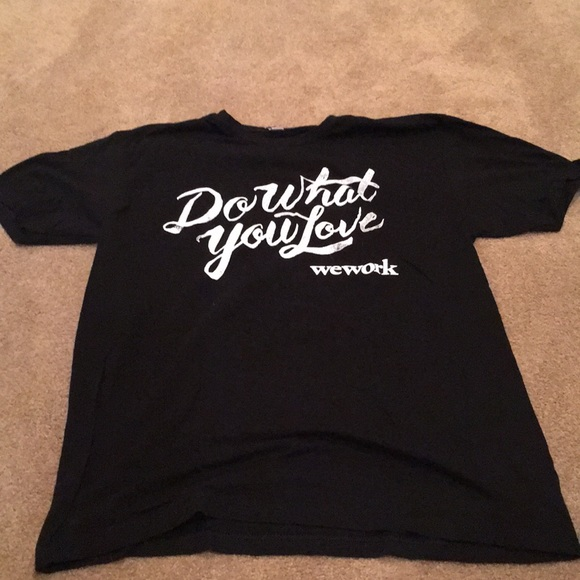wework: (306, 257, 400, 278)
